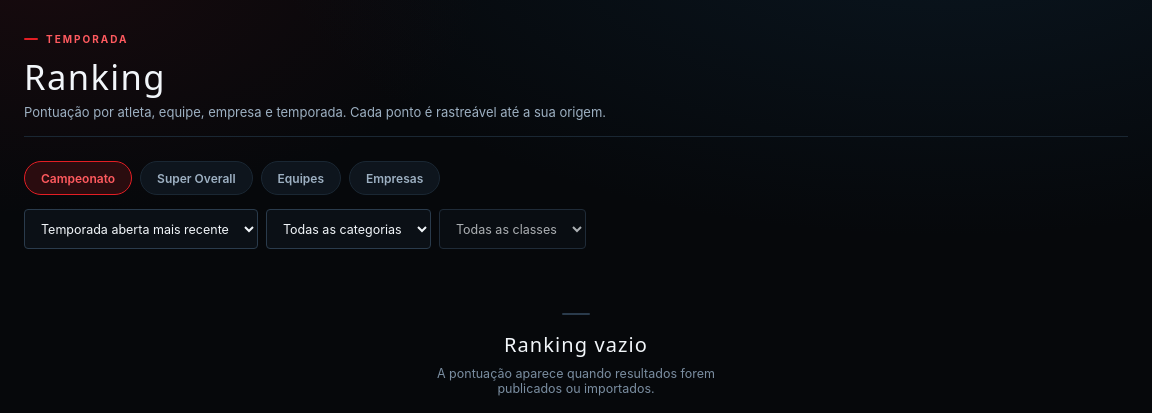
it: o ranking recorta por classe, e a classe vem do servidor › escolher a categoria busca AS CLASSES DAQUELA CATEGORIA e habilita o seletor
Select "Women's Physique" in the dropdown named "Categoria" at {"x": 348, "y": 229}, box [266,209,431,249]
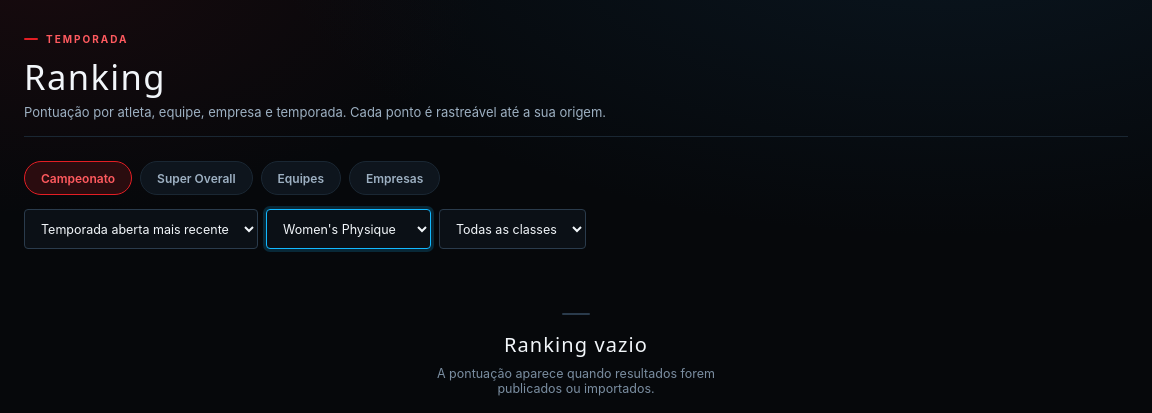
Expected: the dropdown named "Classe" is enabled, [439,209,586,249]
